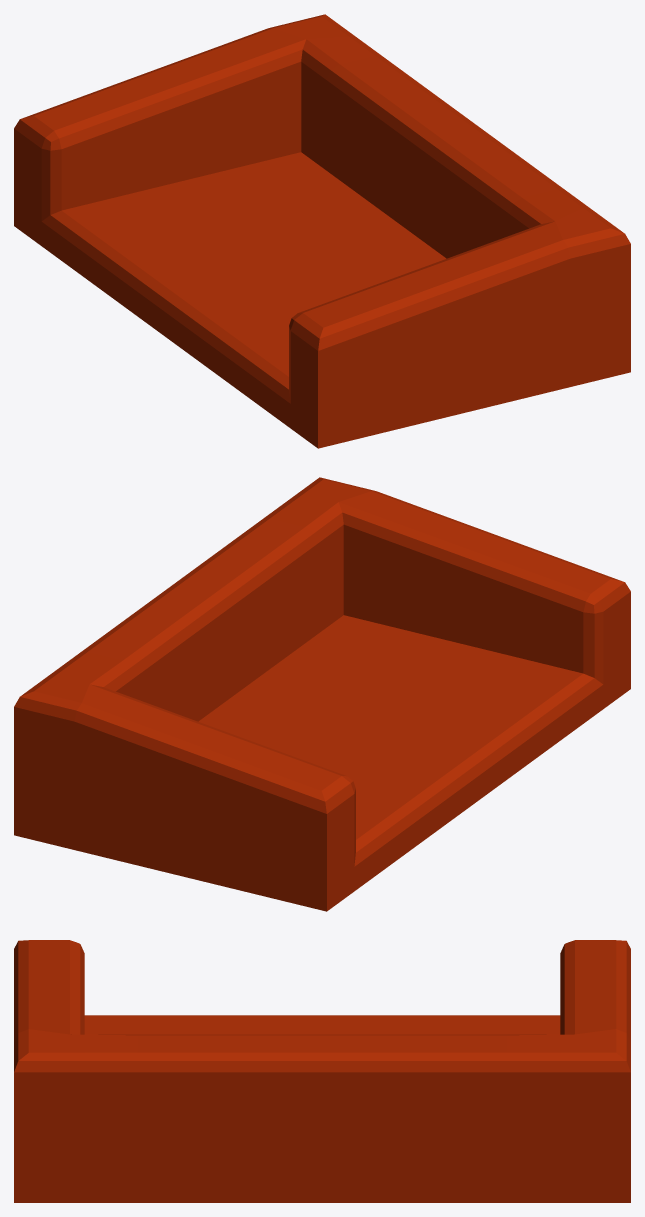
Rendered from couch.glb.
3 views of the same model, one above another, from view 1: azimuth 30°, elevation 25°; view 2: azimuth 150°, elevation 25°; view 3: azimuth 270°, elevation 25° (orthographic).
Parts seen in each view (by area): view 1: Plane.002; view 2: Plane.002; view 3: Plane.002.
Boxes of the visible parts, x1,y1,x2,y2 form: Plane.002: (14,14,630,448); Plane.002: (14,477,630,911); Plane.002: (14,940,630,1202).
Bounding box in the file's own units: 7.24 × 3.15 × 12.18.
